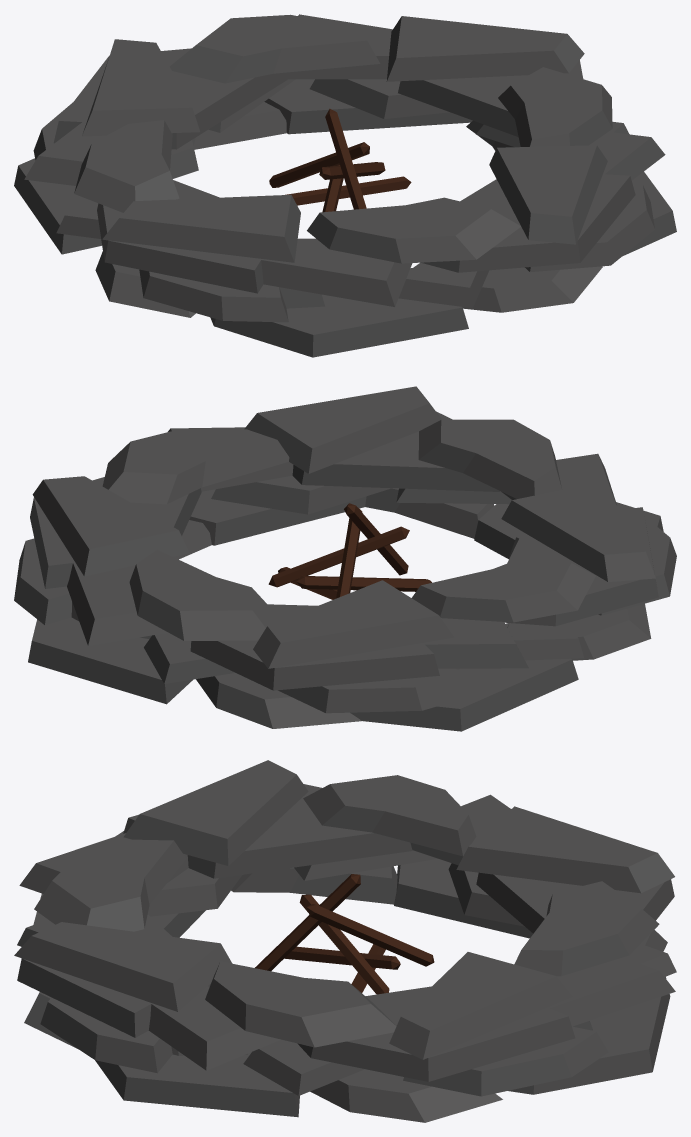
File: FirePit_2.fbx
The picture shows the model from 3 angles, top to bottom: view 1: azimuth 30°, elevation 25°; view 2: azimuth 150°, elevation 25°; view 3: azimuth 270°, elevation 25°; orthographic projection. The views are drawn at different scales.
Visible parts, largest first — view 1: polySurface22, polySurface11, polySurface36, polySurface32, polySurface17, polySurface15, polySurface27, polySurface20, polySurface5, polySurface24, polySurface10, polySurface23 (+22 smaller); view 2: polySurface27, polySurface20, polySurface15, polySurface36, polySurface32, polySurface22, polySurface5, polySurface11, polySurface28, polySurface35, polySurface8, polySurface24 (+20 smaller); view 3: polySurface15, polySurface27, polySurface20, polySurface36, polySurface22, polySurface11, polySurface37, polySurface5, polySurface32, polySurface19, polySurface23, polySurface41 (+19 smaller).
Part boxes in pixels (left/top/right/bottom): polySurface22: left=102, top=194, right=300, bottom=262; polySurface11: left=307, top=197, right=520, bottom=263; polySurface36: left=386, top=16, right=584, bottom=81; polySurface32: left=169, top=14, right=380, bottom=83; polySurface17: left=210, top=298, right=468, bottom=357; polySurface15: left=489, top=145, right=607, bottom=244; polySurface27: left=82, top=39, right=199, bottom=136; polySurface20: left=498, top=67, right=612, bottom=146; polySurface5: left=74, top=120, right=179, bottom=212; polySurface24: left=421, top=174, right=635, bottom=272; polySurface10: left=241, top=238, right=412, bottom=306; polySurface23: left=97, top=180, right=263, bottom=293; polySurface27: left=253, top=580, right=454, bottom=668; polySurface20: left=102, top=428, right=289, bottom=504; polySurface15: left=244, top=386, right=441, bottom=473; polySurface36: left=32, top=476, right=189, bottom=576; polySurface32: left=129, top=549, right=274, bottom=640; polySurface22: left=501, top=481, right=655, bottom=581; polySurface5: left=412, top=558, right=595, bottom=622; polySurface11: left=418, top=419, right=562, bottom=498; polySurface28: left=190, top=604, right=439, bottom=690; polySurface35: left=28, top=617, right=192, bottom=704; polySurface8: left=350, top=658, right=578, bottom=731; polySurface24: left=292, top=411, right=499, bottom=491; polySurface15: left=14, top=922, right=232, bottom=1011; polySurface27: left=456, top=806, right=674, bottom=893; polySurface20: left=205, top=961, right=396, bottom=1047; polySurface36: left=389, top=952, right=572, bottom=1059; polySurface22: left=123, top=760, right=308, bottom=865; polySurface11: left=34, top=839, right=186, bottom=931; polySurface37: left=297, top=986, right=575, bottom=1081; polySurface5: left=303, top=775, right=476, bottom=856; polySurface32: left=514, top=881, right=659, bottom=976; polySurface19: left=95, top=1039, right=299, bottom=1117; polySurface23: left=123, top=784, right=412, bottom=878; polySurface41: left=255, top=874, right=434, bottom=994.
Bounding box in the file's own units: 2.78 × 0.4892 × 2.73.
